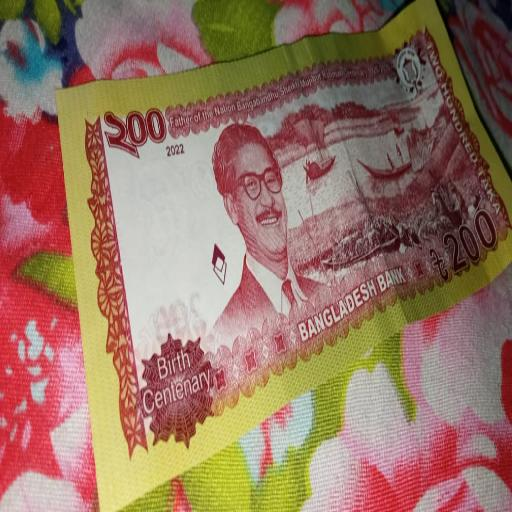200taka: (56, 0, 512, 509)
